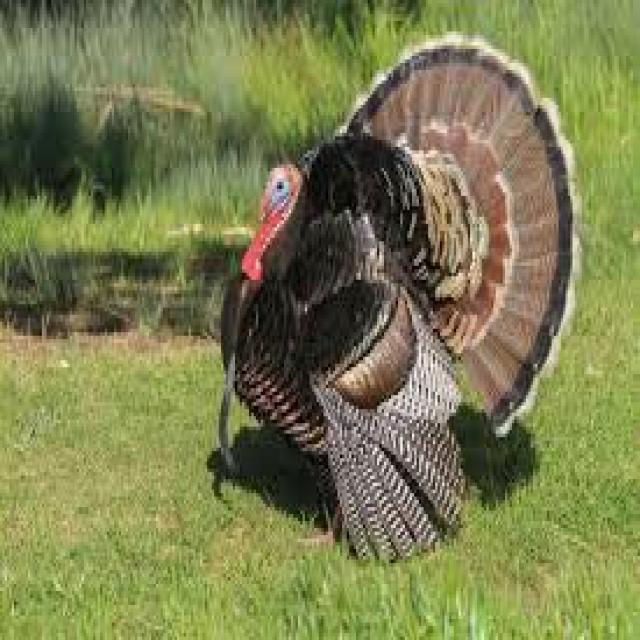turkey: (219, 35, 577, 553)
